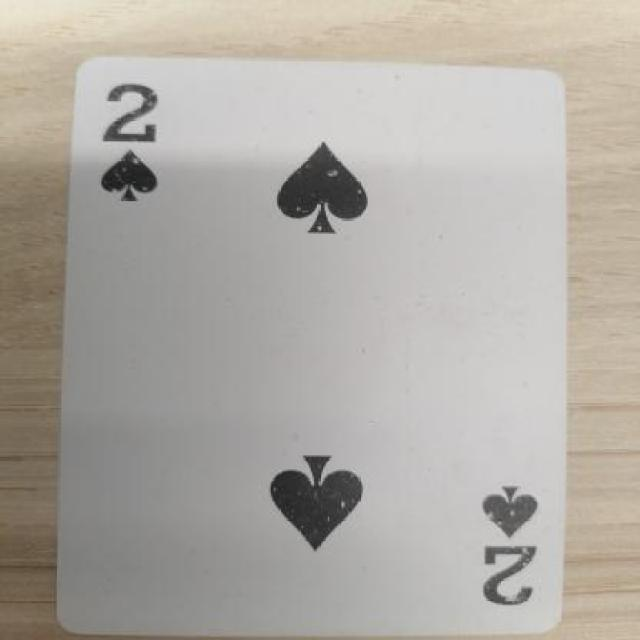2S: (432, 462, 559, 615), (78, 65, 199, 210)
